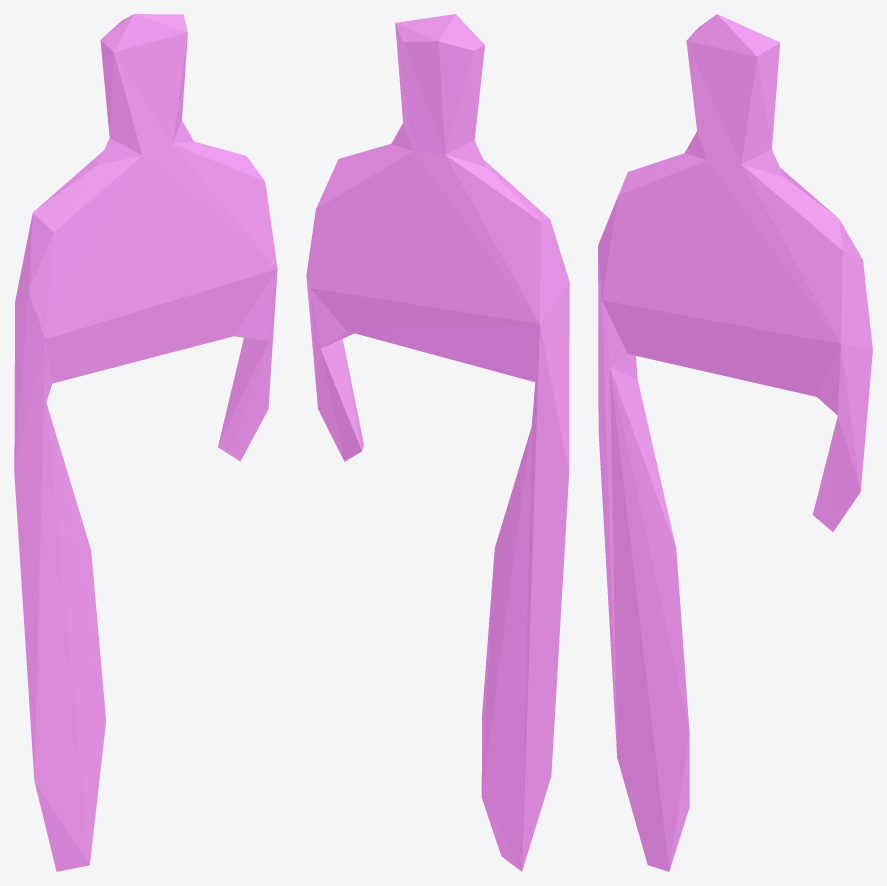
File: emma_synth.glb
The picture shows the model from 3 angles, left to right: view 1: azimuth 30°, elevation 25°; view 2: azimuth 150°, elevation 25°; view 3: azimuth 330°, elevation 25°; orthographic projection. The views are drawn at different scales.
Parts seen in each view (by area): view 1: Emma_Synth; view 2: Emma_Synth; view 3: Emma_Synth.
Boxes of the visible parts, x1,y1,x2,y2 form: Emma_Synth: (14,14,277,871); Emma_Synth: (306,14,569,871); Emma_Synth: (598,14,872,871).
Size of the model in its own units: 0.6579 by 2.03 by 0.1258.
